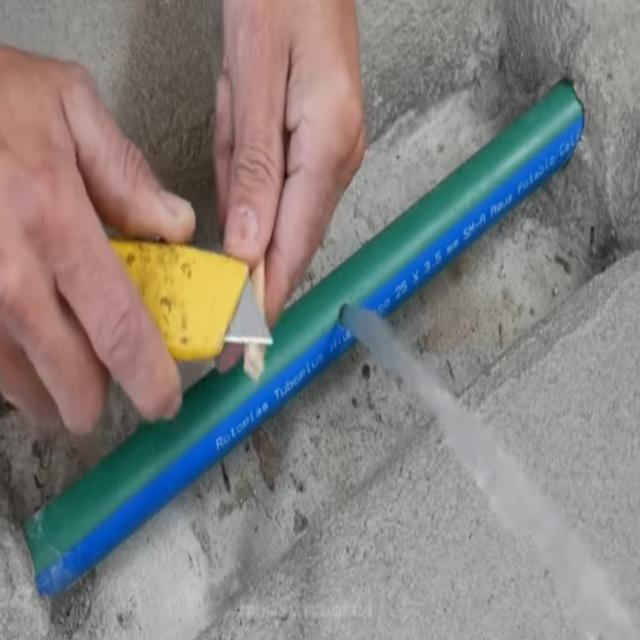leak: (340, 304, 640, 638)
